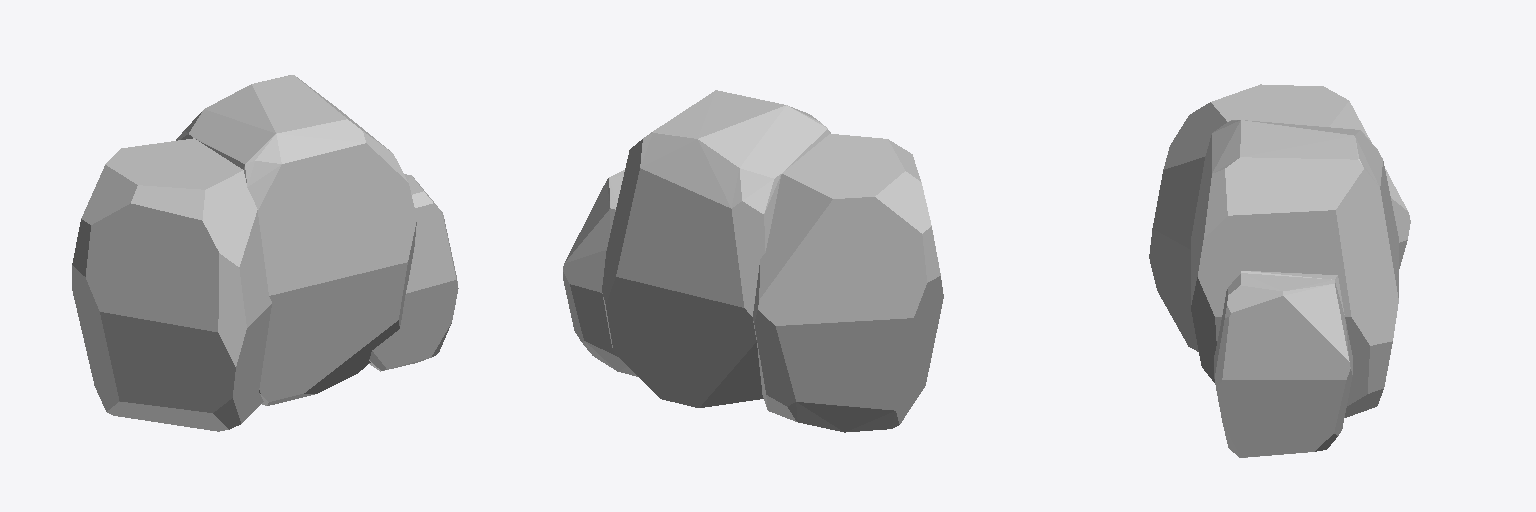
File: LargeRock1.obj
The picture shows the model from 3 angles: view 1: azimuth 30°, elevation 25°; view 2: azimuth 150°, elevation 25°; view 3: azimuth 270°, elevation 25°; orthographic projection.
Visible parts, largest first — view 1: LargeRock1; view 2: LargeRock1; view 3: LargeRock1.
Part boxes in pixels (x1,y1,x2,y2): LargeRock1: (72, 75, 458, 431); LargeRock1: (563, 90, 943, 432); LargeRock1: (1149, 84, 1410, 457).
Size of the model in its own units: 8.51 by 6.47 by 5.62.